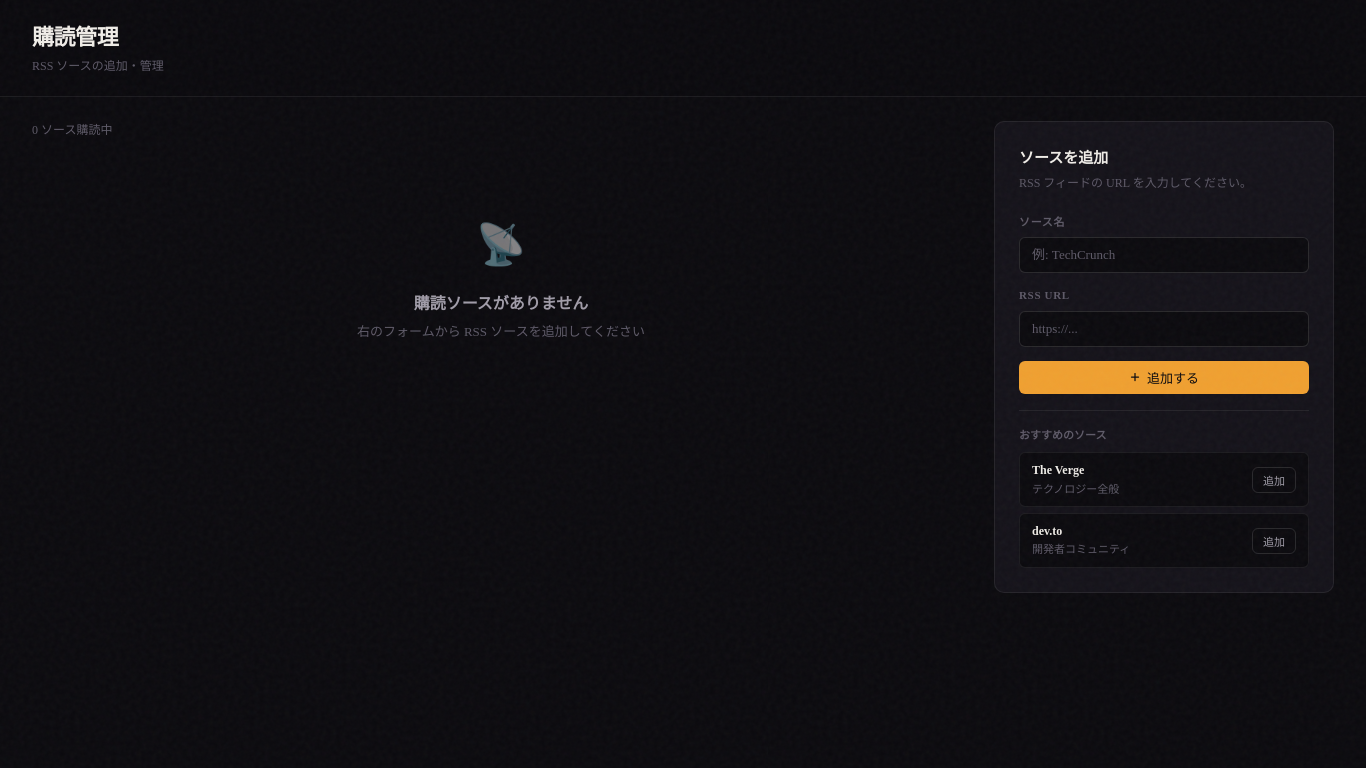
SubscriptionsPage — recommended sources › Given "The Verge" recommend button clicked, fills name and url inputs
Click the button with aria-label "The Verge を追加": {"x": 1274, "y": 480} x1=1252 y1=467 x2=1296 y2=493
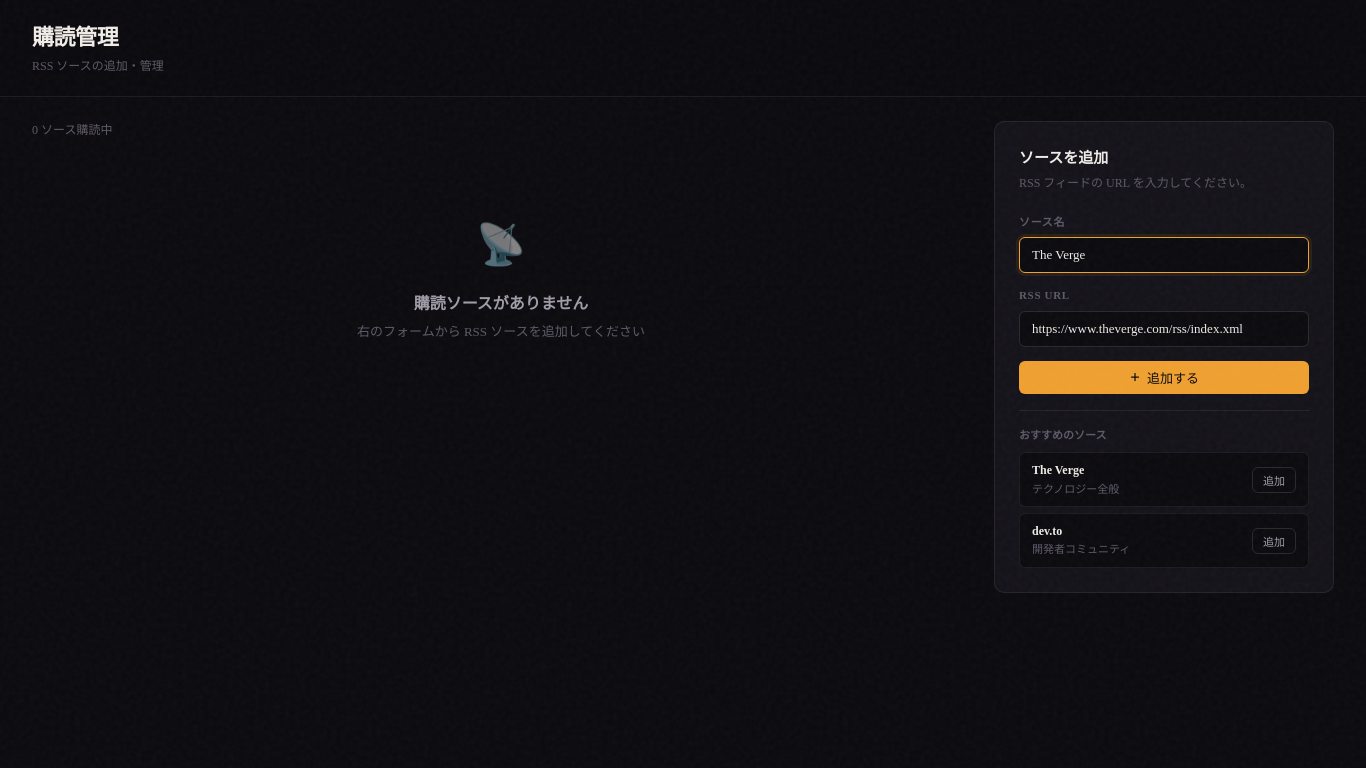
Now the field labelled "ソース名" holds "The Verge", box x1=1019 y1=237 x2=1309 y2=273
Now the field labelled "RSS URL" holds "https://www.theverge.com/rss/index.xml", box x1=1019 y1=311 x2=1309 y2=347
